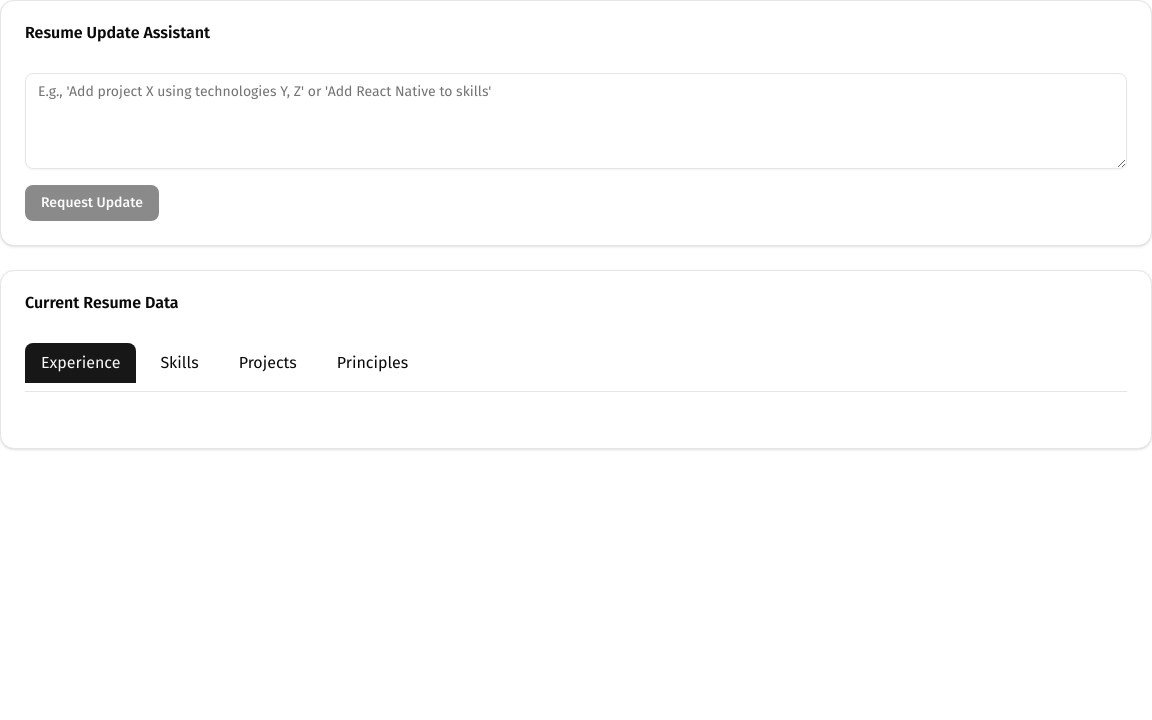
Test: Admin Workflows Integration Tests › Resume Update Workflow › completes full resume update workflow from request to apply
# Submit update request
Type "Add project: Build a portfolio with Next.js" into the text box with placeholder "Add project X" at (576, 121), box [25,73,1127,169]
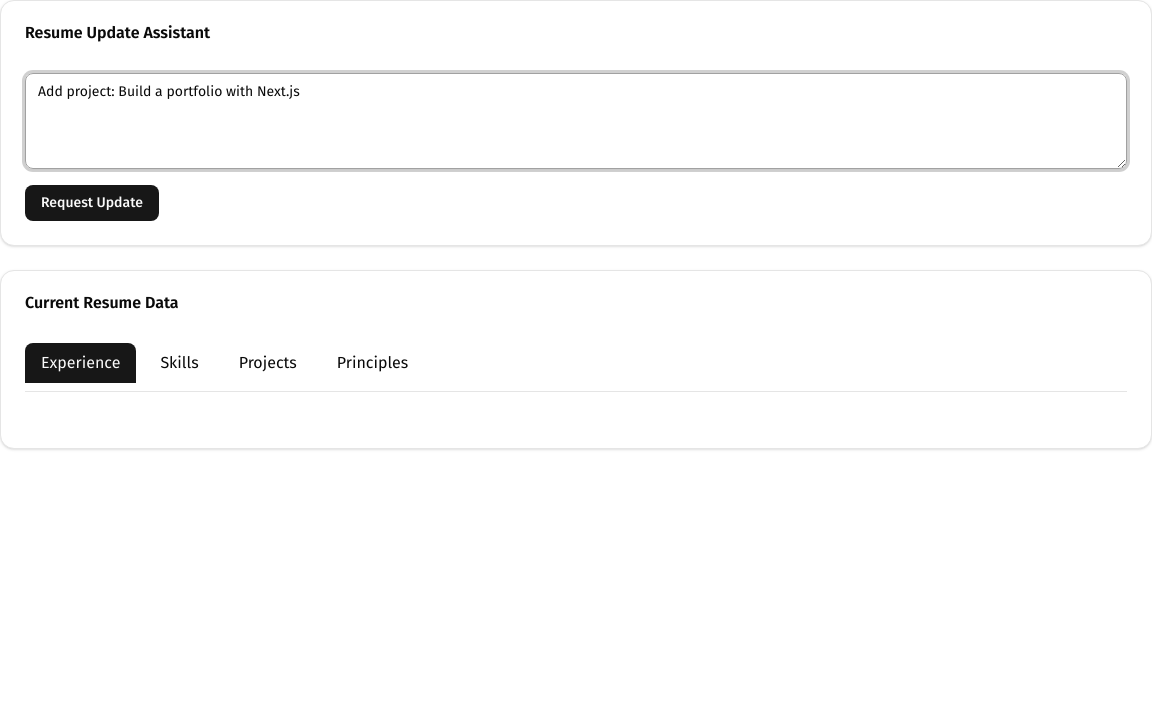
Click the button "Request Update" at (92, 203), box [25,185,159,221]
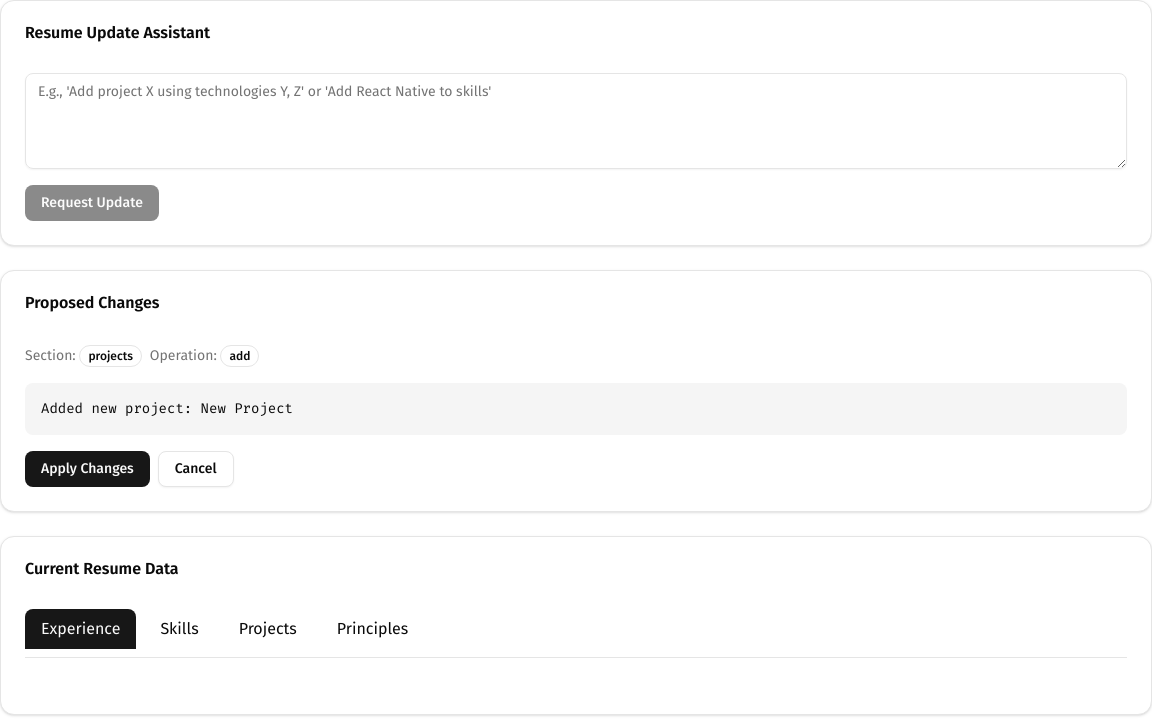
Result: the text "Proposed Changes" is shown at [25,293,159,312]
Result: the text "Added new project: New Project" is shown at [25,383,1127,435]
Click the button "Apply Changes" at (87, 469), box [25,451,150,487]
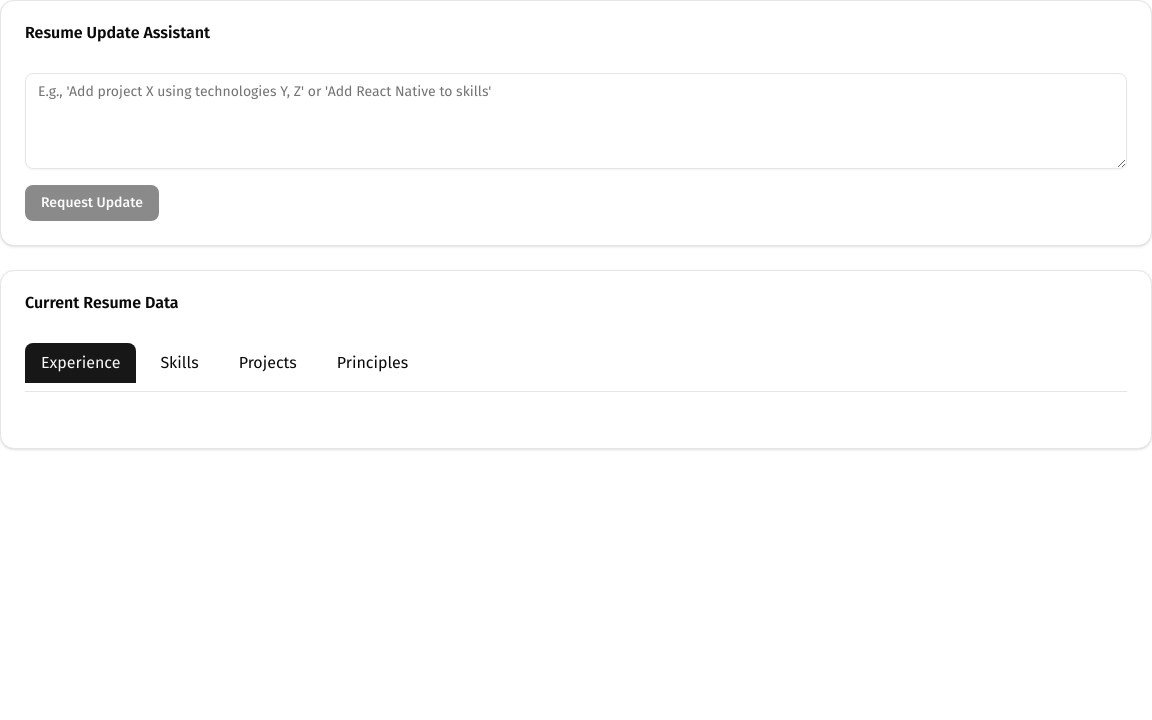
Result: the text "Proposed Changes" is gone
